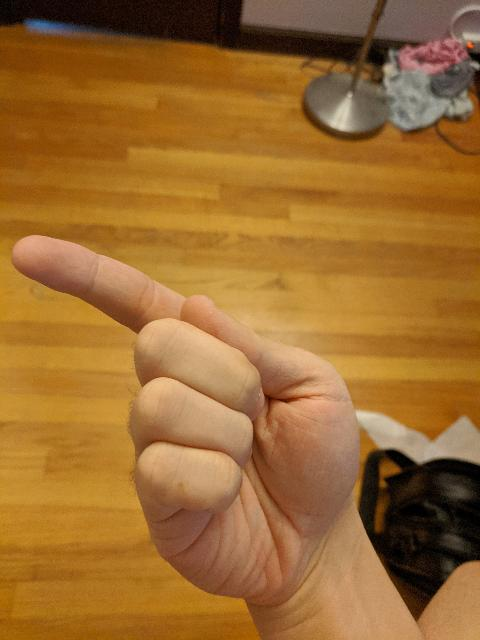G: (0, 228, 370, 610)
